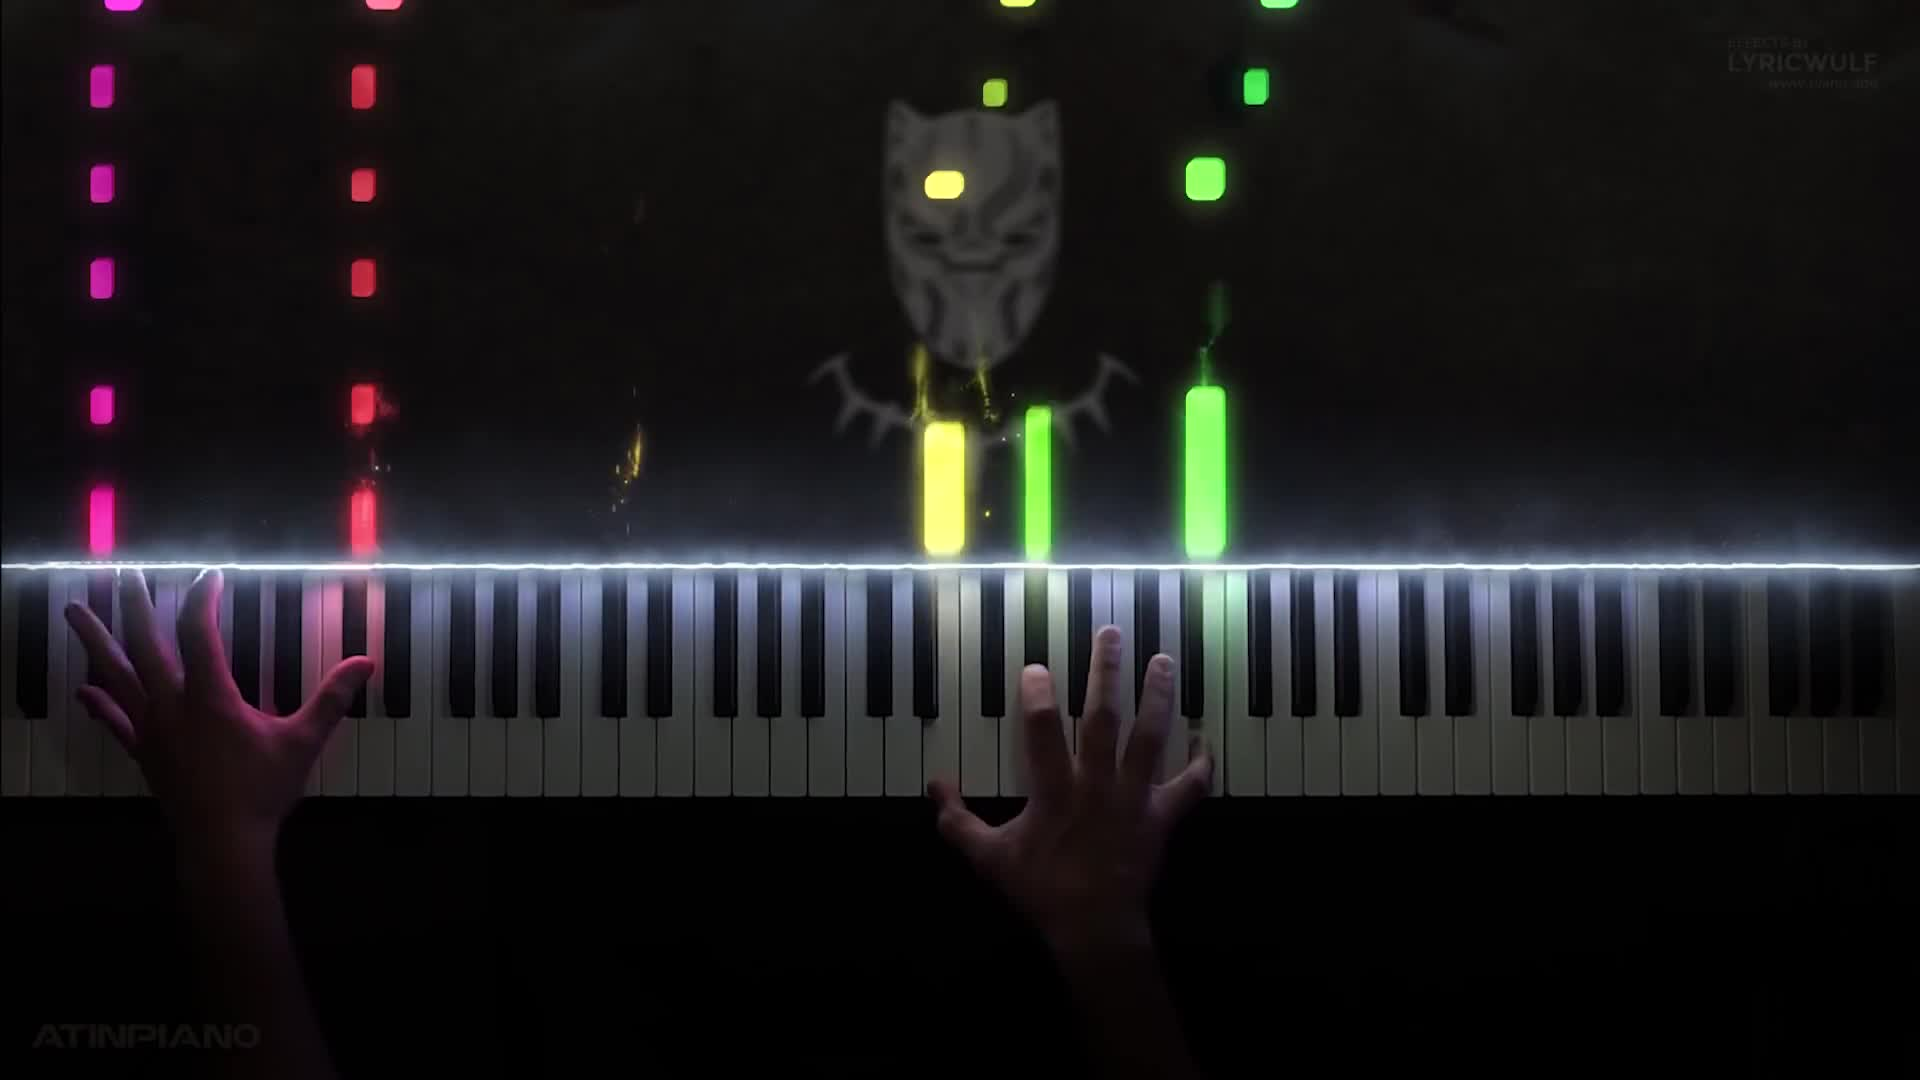left: (61, 562, 376, 807)
right: (926, 618, 1221, 913)
